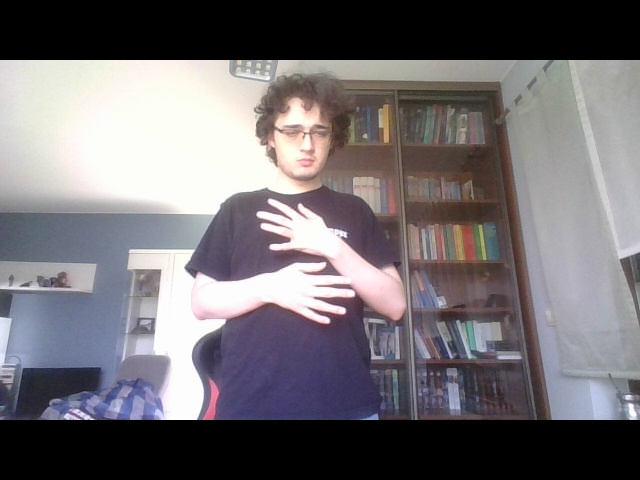hand: (256, 262, 353, 333), (253, 193, 344, 263)
